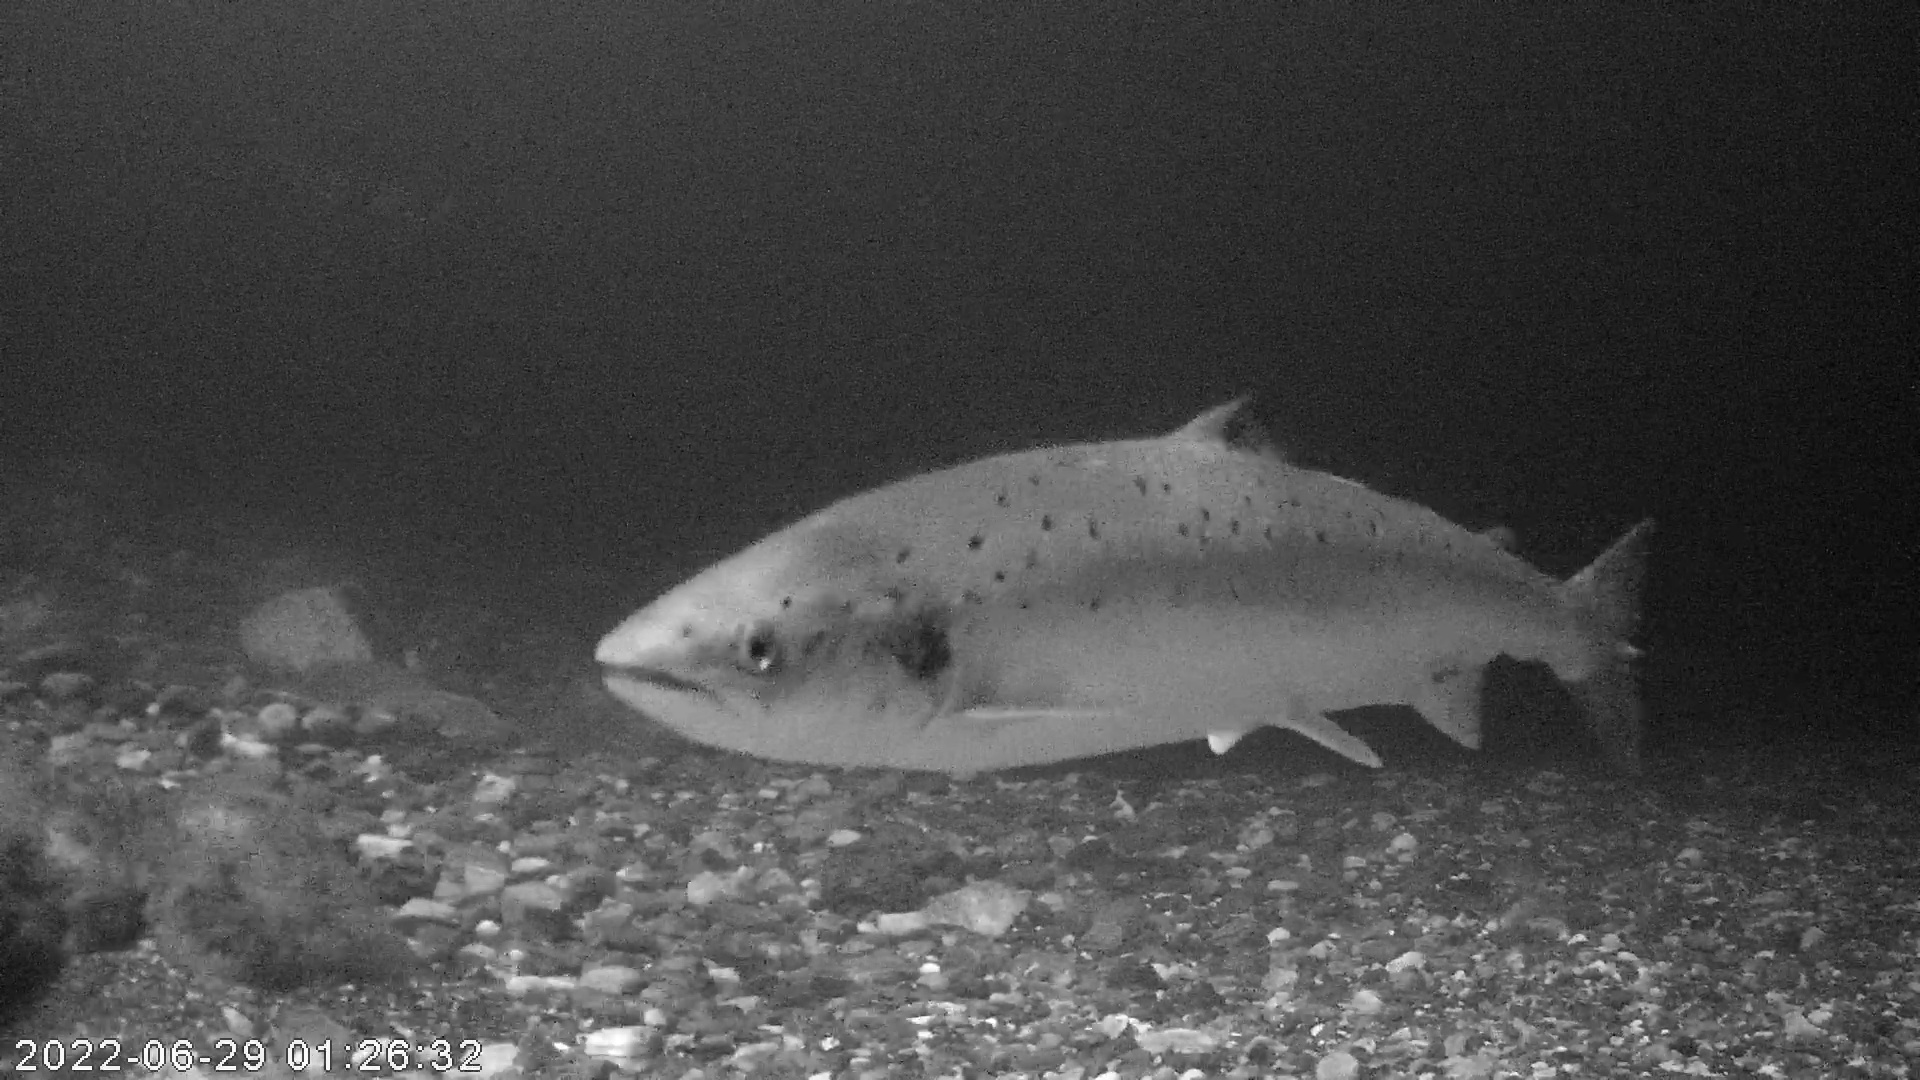salmon: (585, 386, 1654, 789)
